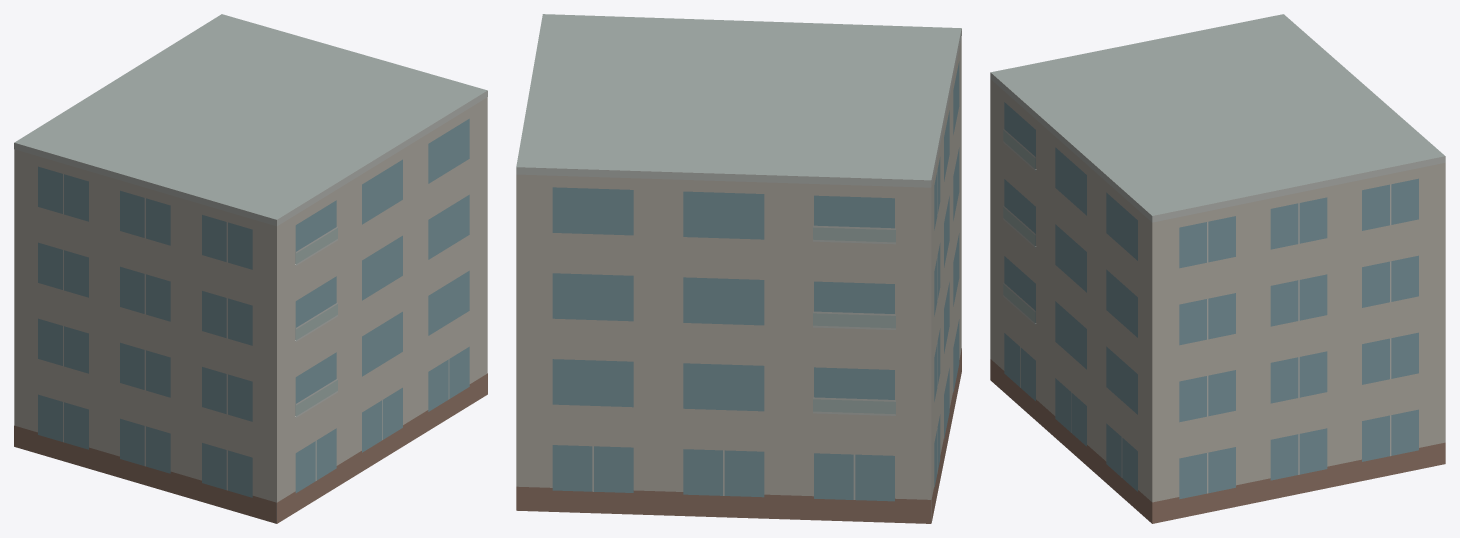
The model's file is survey-upis-32745181.glb.
3 renders of one model, left to right at view 1: azimuth 30°, elevation 25°; view 2: azimuth 150°, elevation 25°; view 3: azimuth 270°, elevation 25°, orthographic. The views are drawn at different scales.
Parts seen in each view (by area): view 1: survey-upis-32745181.tmp; view 2: survey-upis-32745181.tmp; view 3: survey-upis-32745181.tmp.
Part boxes in pixels (x1,y1,x2,y2): survey-upis-32745181.tmp: (14, 14, 487, 523); survey-upis-32745181.tmp: (516, 14, 961, 523); survey-upis-32745181.tmp: (990, 14, 1445, 523).
Bounding box in the file's own units: 16.05 × 11.4 × 15.28.
